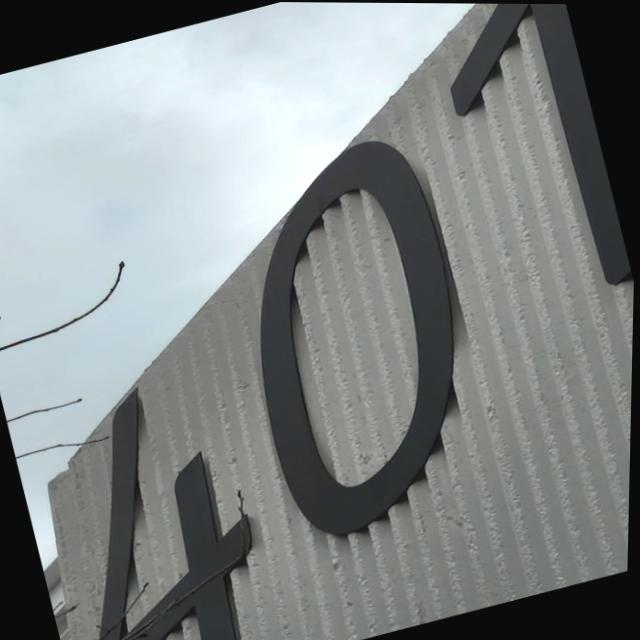character: (179, 115, 532, 561), (6, 355, 308, 640), (395, 3, 639, 322)
